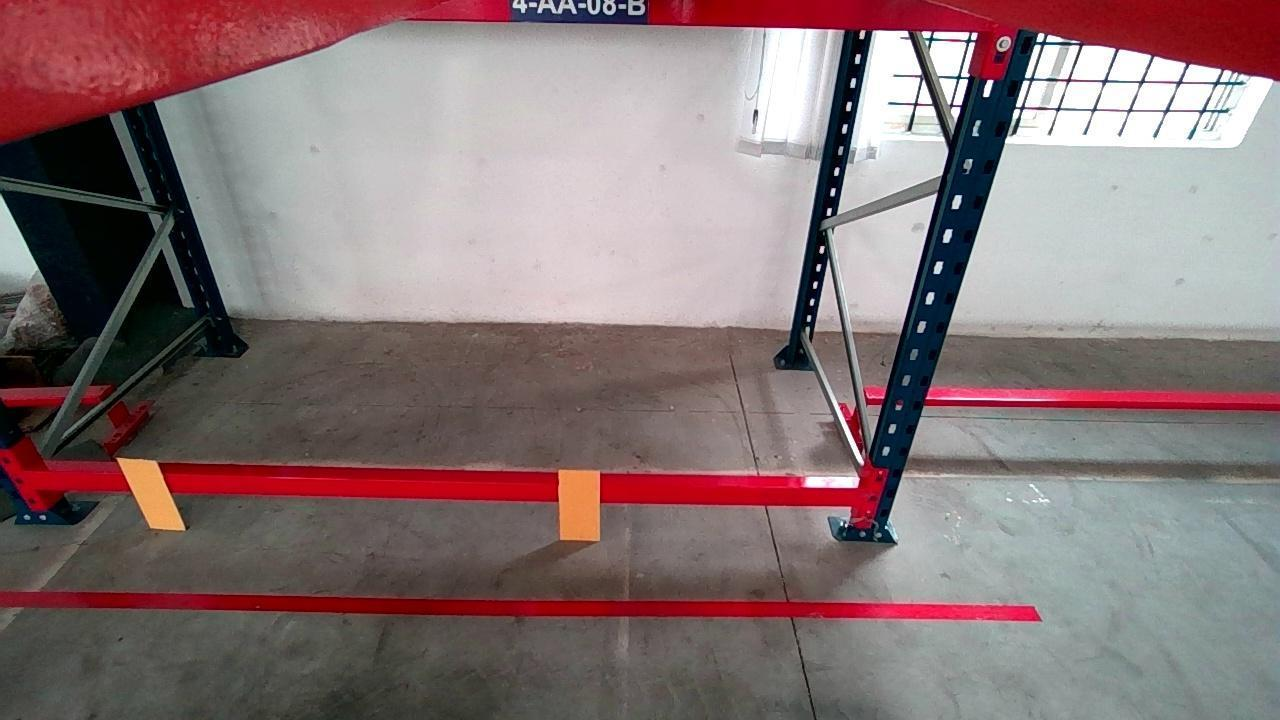h_rack: (28, 468, 864, 509)
orange_strip: (122, 460, 189, 529), (558, 466, 601, 541)
red_line: (4, 591, 1045, 620)
